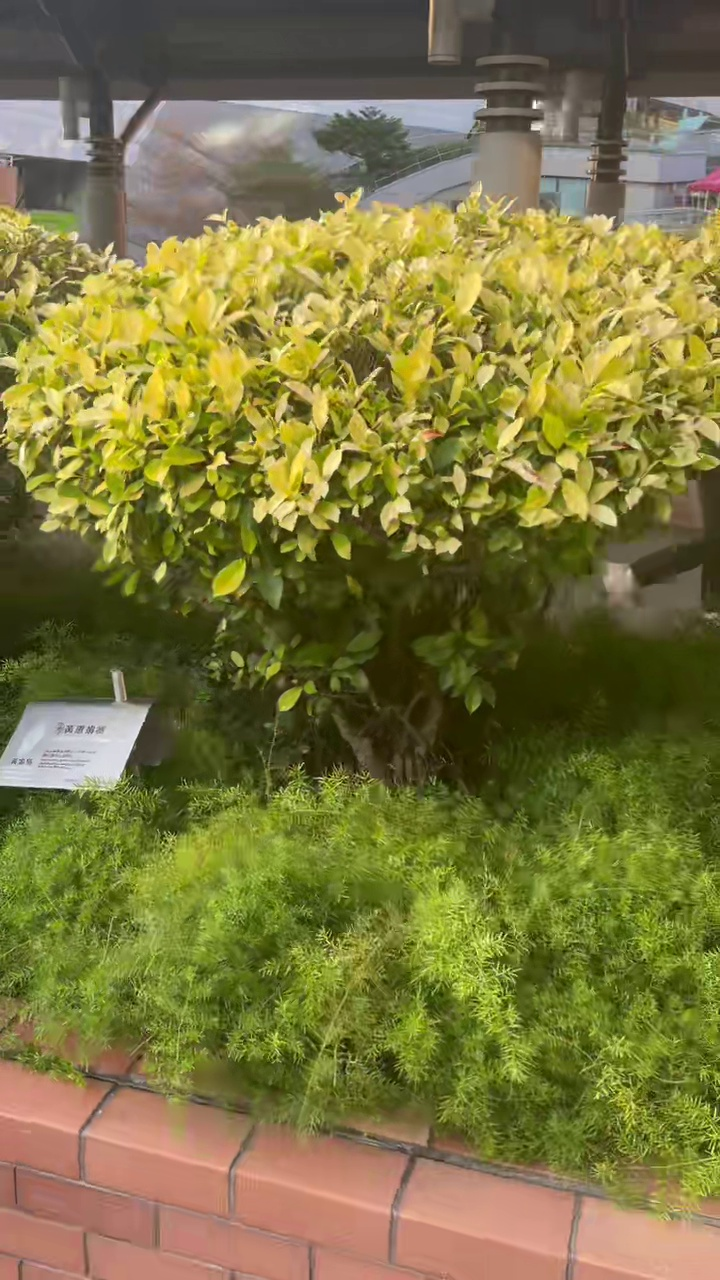Golden-leaves Fig: (6, 191, 719, 775)
